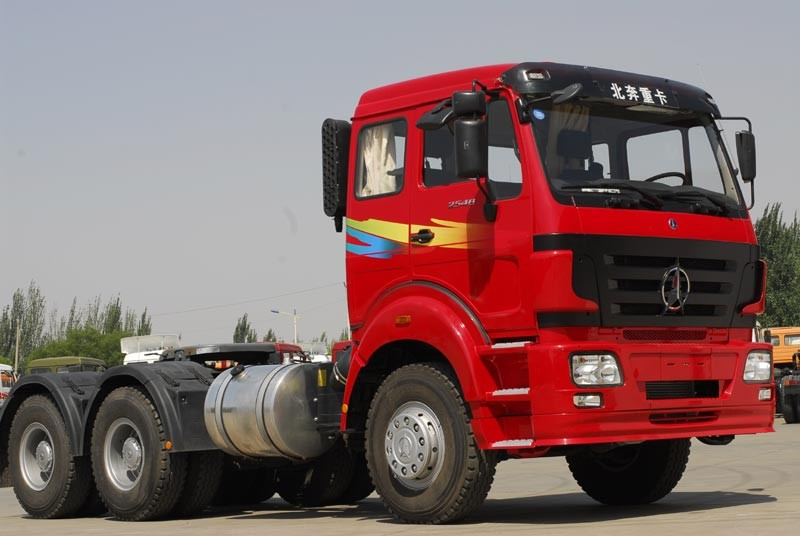truck: (168, 69, 800, 532)
